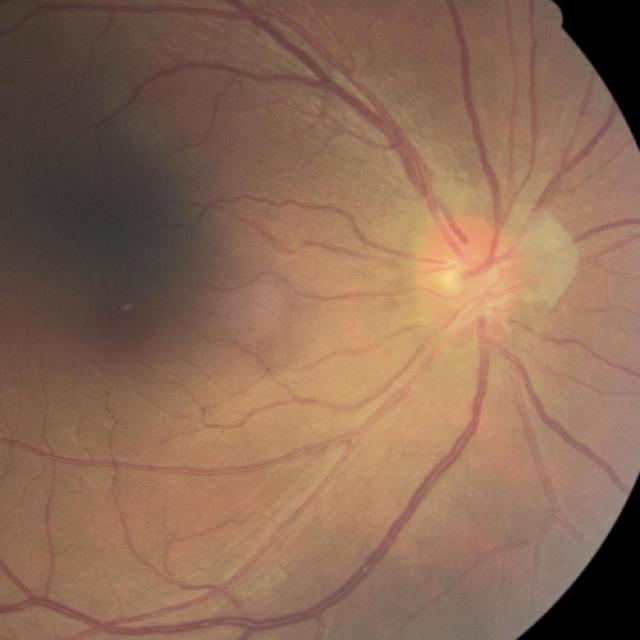OC: (437, 259, 469, 293)
OD: (409, 214, 523, 339)
